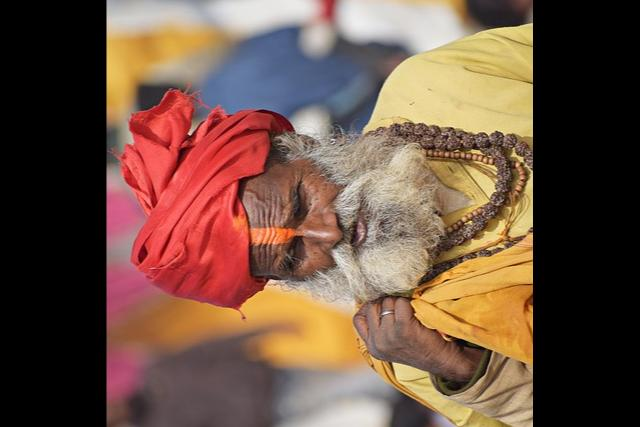Non_Gorille: (123, 20, 522, 402)
